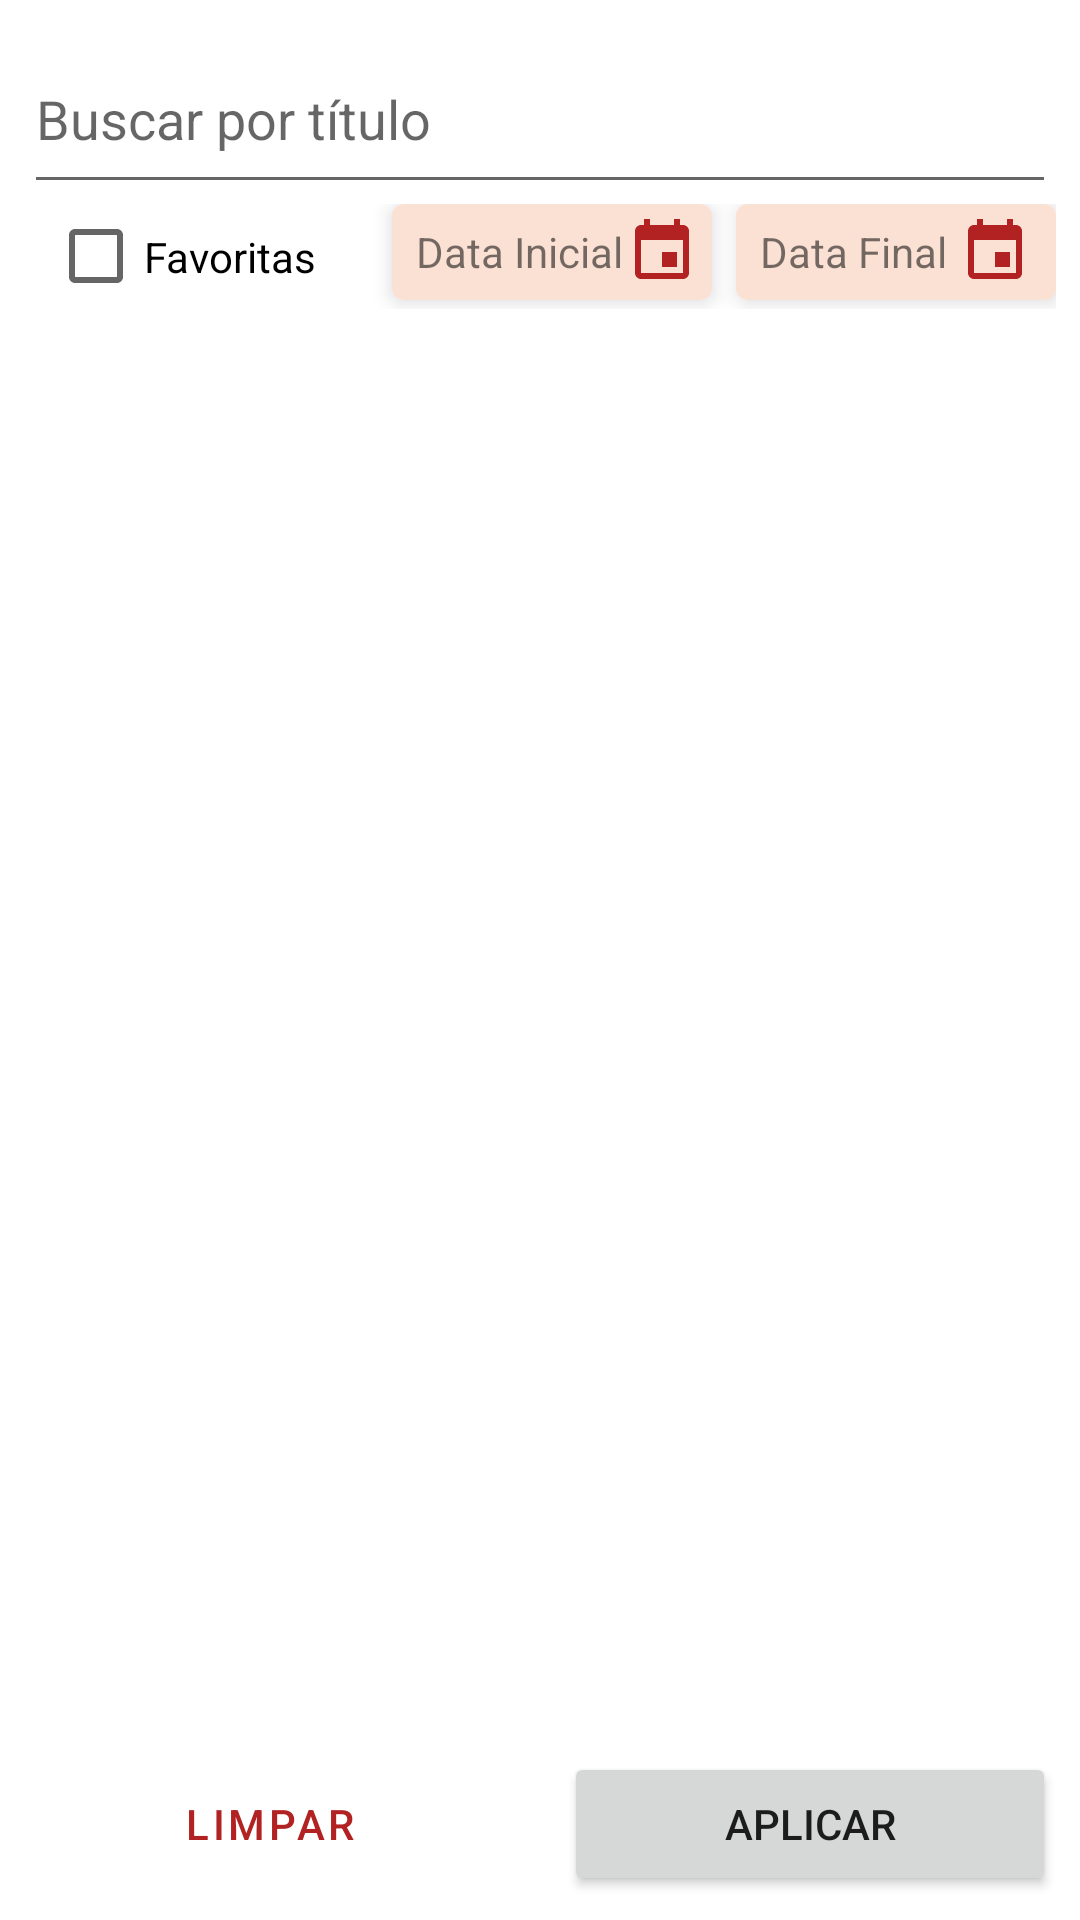

Icon bounding boxes for this 1080×1920 phone screenshot, format (x1, y1, x2, y2):
date: (635, 219, 689, 279), (968, 219, 1022, 279)
